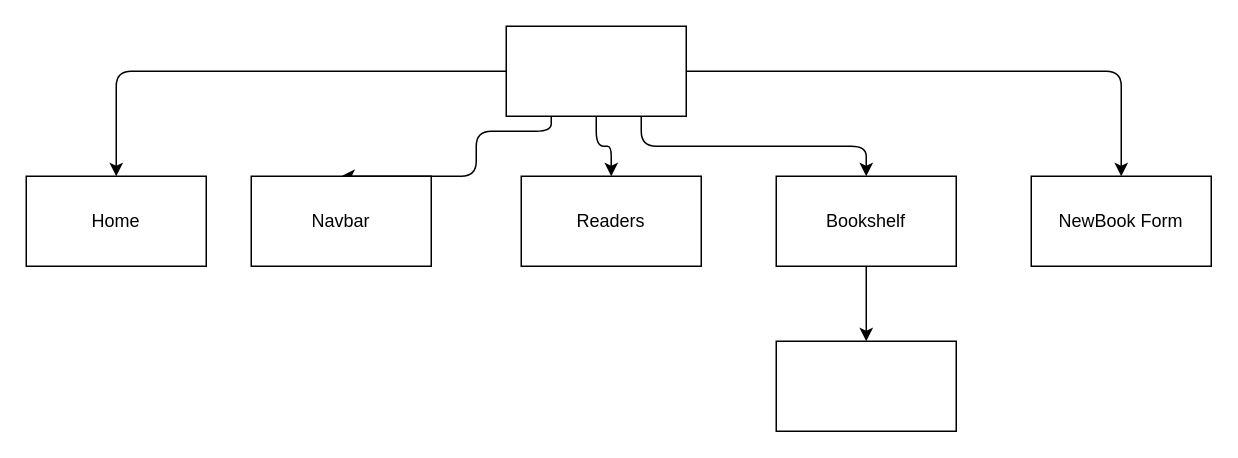
The diagram is 1238 pixels wide and 458 high, and some of its shapes have lost their labels. The shapes that lost their labels are listed below. From the top down, each one's centre as x and y in pixels, then its label:
At point (595, 70): "App".
At point (865, 385): "BookCard".
